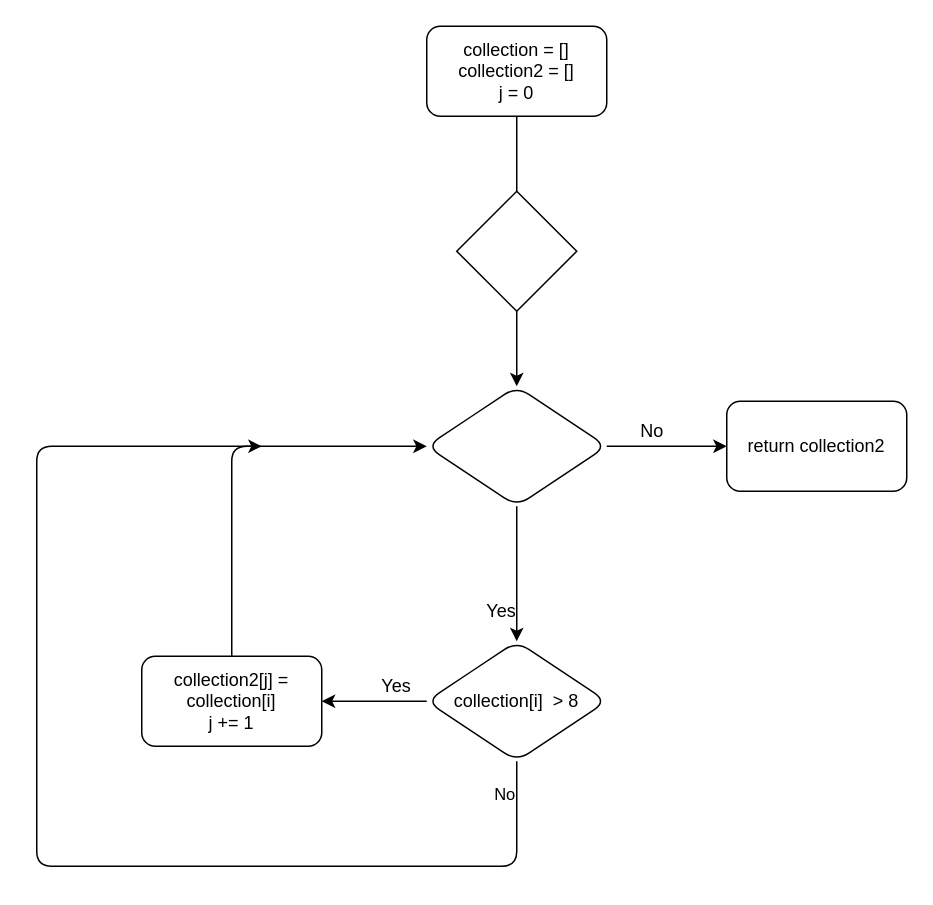
Some shapes in this 933 by 905 pixel diagram are drawn without their labels. The shapes that lost their labels are listed below. From the top down, each one's centre as x and y in pixels, then its label:
At [516,250]: "for i in collection".
At [516,445]: "i < collection.length".
